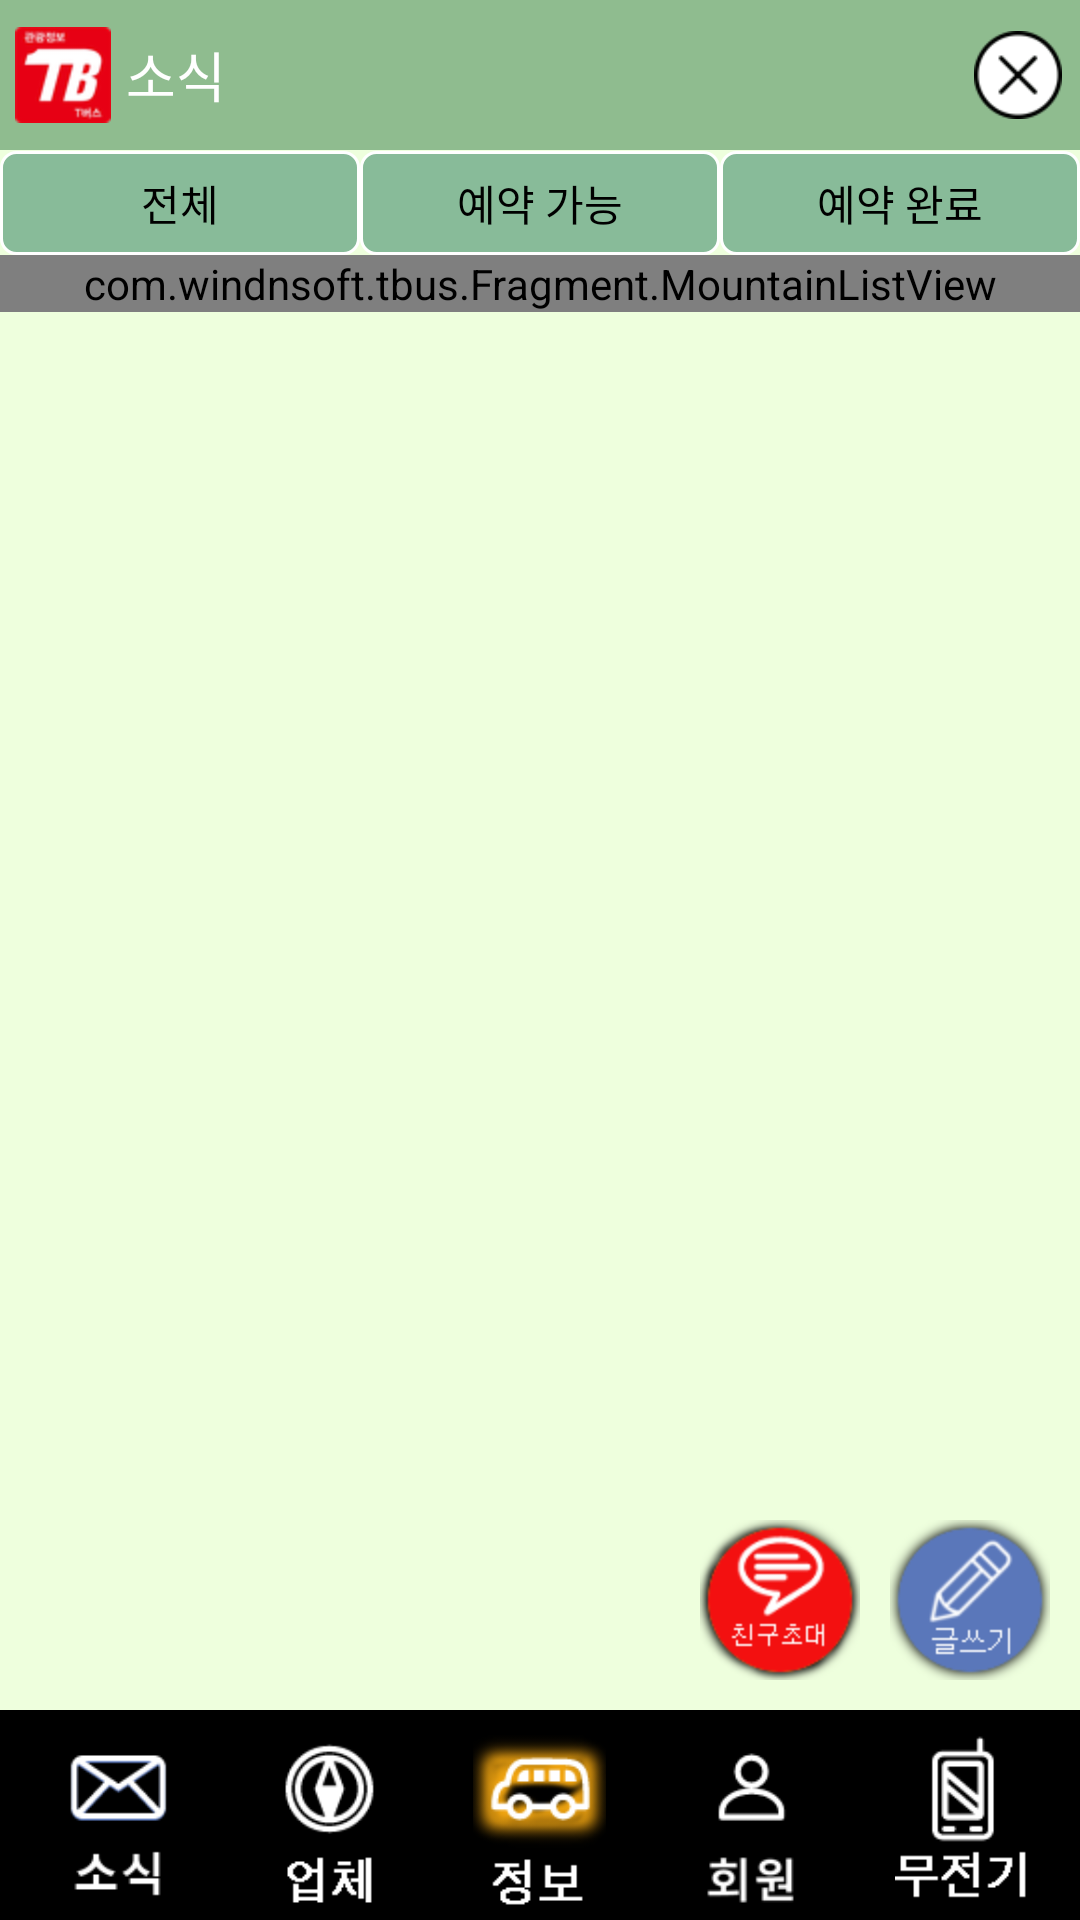

Icon bounding boxes for this 1080w x 1920h phone screenshot, format (x1, y1, x2, y2):
xbutton: (974, 31, 1062, 119)
